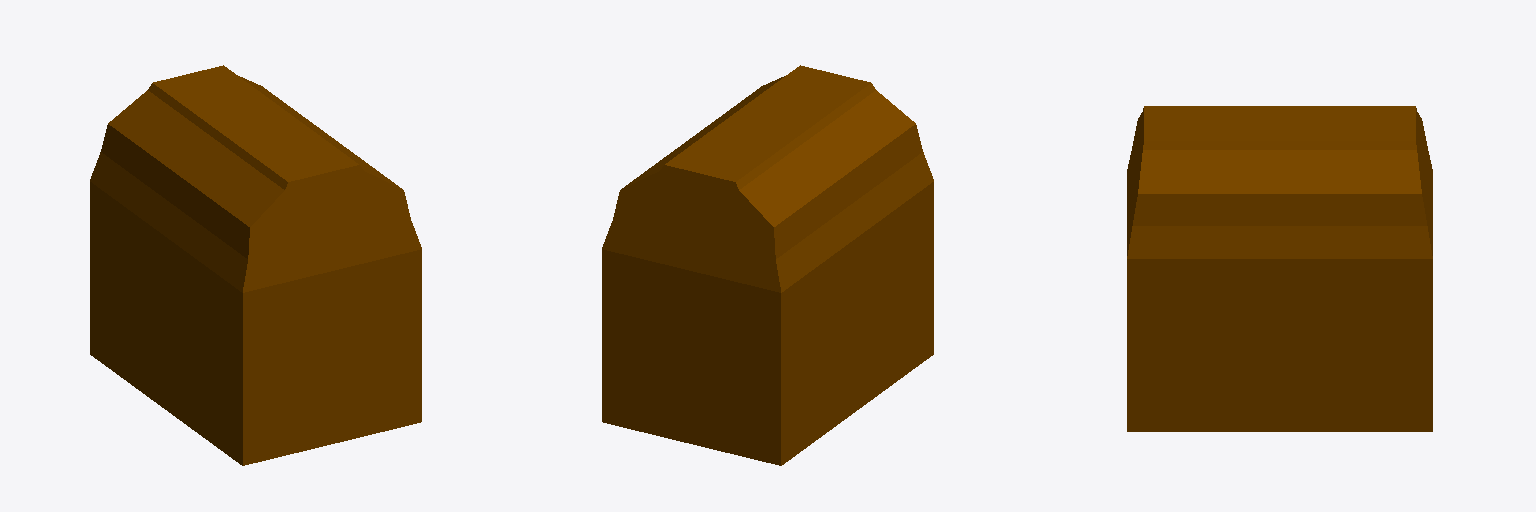
Rendered from maya-house_reduced.obj.
3 views of the same model, side by side, from view 1: azimuth 30°, elevation 25°; view 2: azimuth 150°, elevation 25°; view 3: azimuth 270°, elevation 25° (orthographic).
Parts seen in each view (by area): view 1: house; view 2: house; view 3: house.
Boxes of the visible parts, <box> form: house: <box>90,65,421,465</box>; house: <box>602,65,933,465</box>; house: <box>1127,106,1432,431</box>.
Bounding box in the file's own units: 3.27 × 4.6 × 4.82.